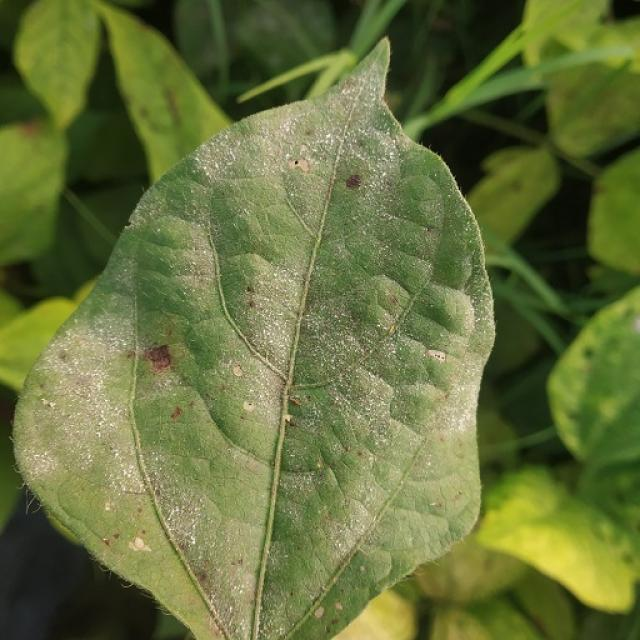Blackgram: (15, 40, 494, 639)
Powdery_Mildew: (121, 198, 289, 635), (14, 327, 162, 565), (308, 143, 465, 359), (34, 212, 159, 405), (267, 327, 419, 479), (259, 463, 384, 639), (360, 398, 483, 567), (141, 389, 275, 534), (186, 338, 290, 460), (131, 214, 223, 347), (210, 172, 311, 282), (222, 252, 301, 371), (385, 277, 473, 357), (55, 470, 140, 543), (359, 208, 444, 278), (350, 270, 428, 346), (263, 111, 382, 158), (274, 401, 346, 474), (377, 162, 452, 230), (280, 156, 335, 242), (389, 372, 458, 433), (195, 138, 254, 176), (349, 67, 389, 120)
